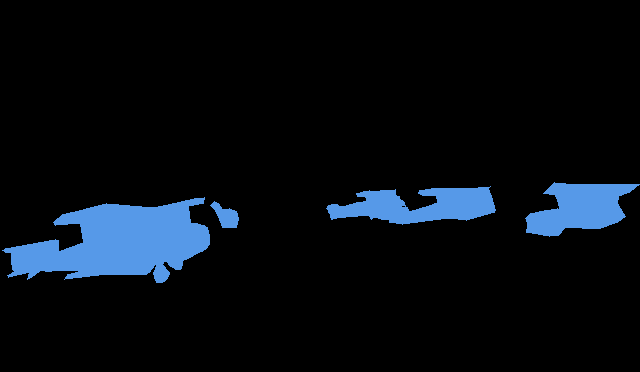Airplane: (2, 197, 209, 283), (525, 182, 640, 236), (386, 186, 495, 224), (326, 189, 405, 220), (210, 201, 239, 228)
